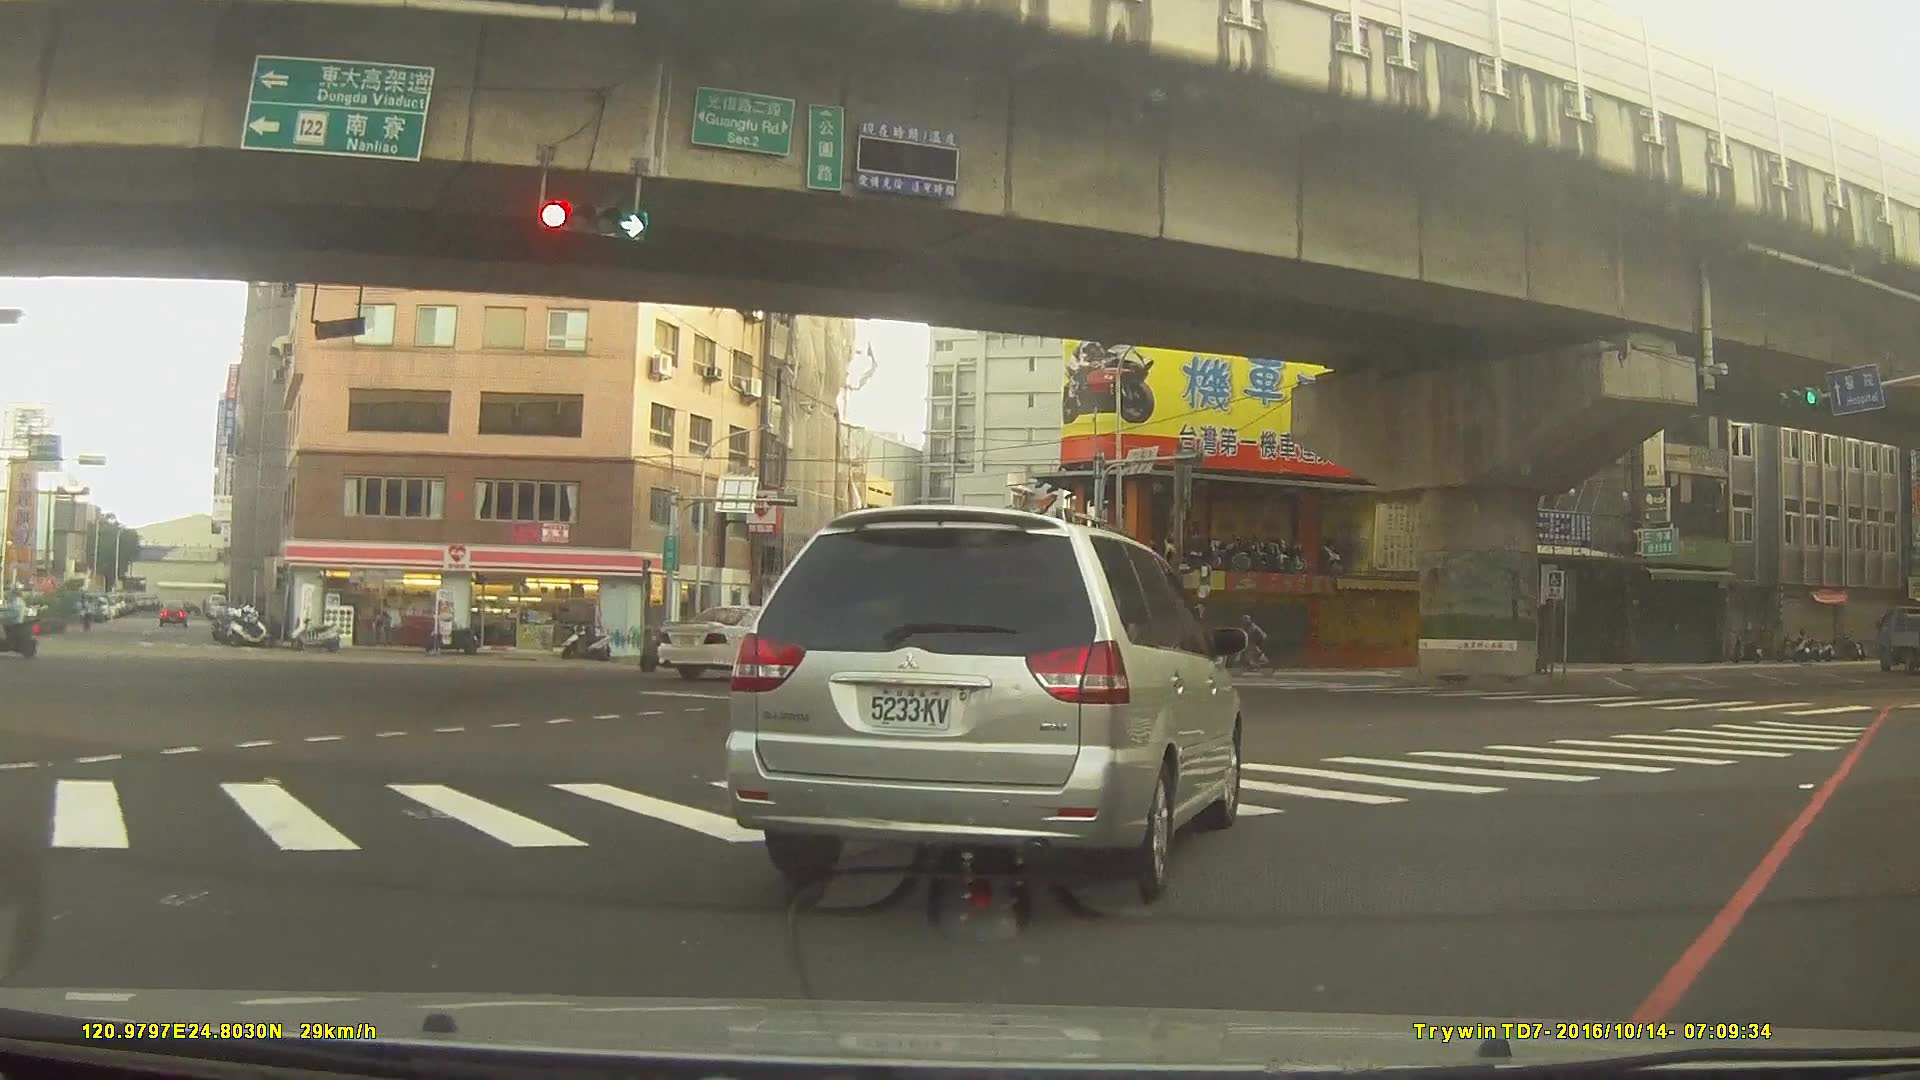rider: (635, 597, 704, 671), (1224, 615, 1280, 679), (2, 584, 46, 664)
vehicle: (724, 504, 1240, 908), (657, 602, 828, 678), (1871, 607, 1920, 671), (831, 633, 903, 674), (155, 596, 186, 624)
